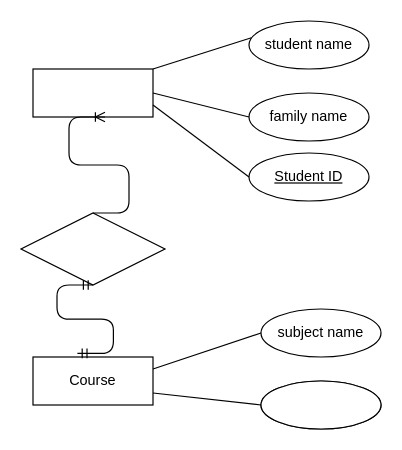
Some shapes in this 402 by 450 pixel diagram are drawn without their labels. The shapes that lost their labels are listed below. From the top down, each one's centre as x and y in pixels, then its label:
At (x=92, y=92): "Student".
At (x=92, y=248): "Enrolled by".
At (x=320, y=404): "Course ID".
